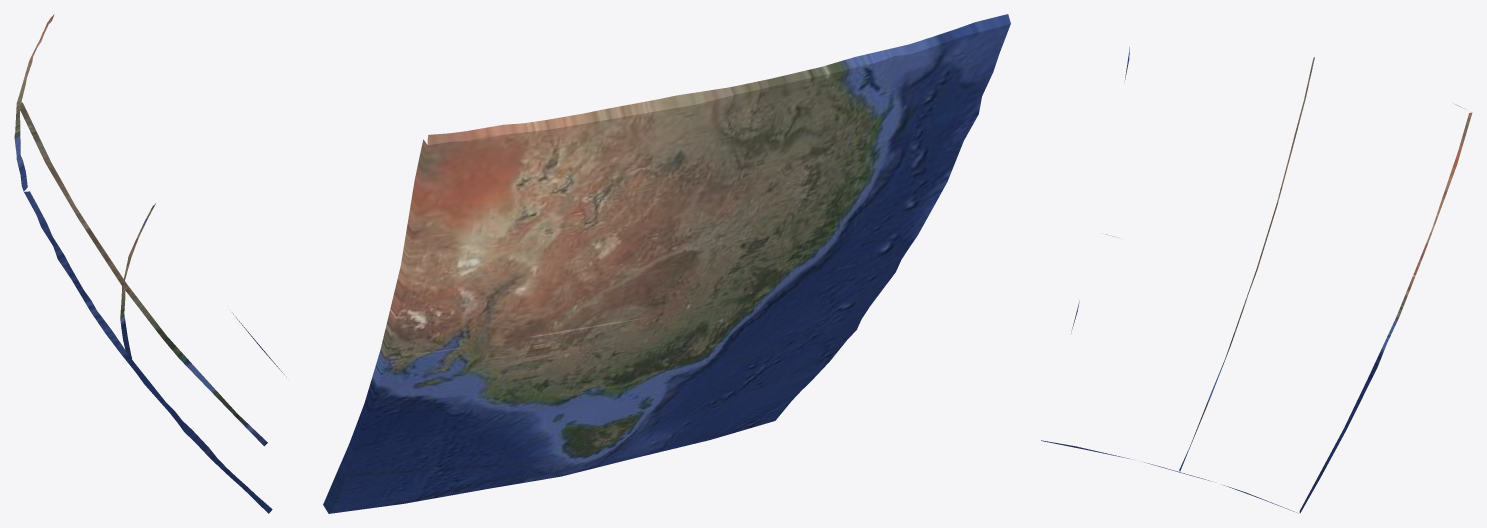
The picture shows the model from 3 angles, left to right: view 1: azimuth 30°, elevation 25°; view 2: azimuth 150°, elevation 25°; view 3: azimuth 270°, elevation 25°; orthographic projection. The views are drawn at different scales.
Size of the model in its own units: 2283681 by 2102739 by 2468074.
Materials: 1 (1 with a texture image).
